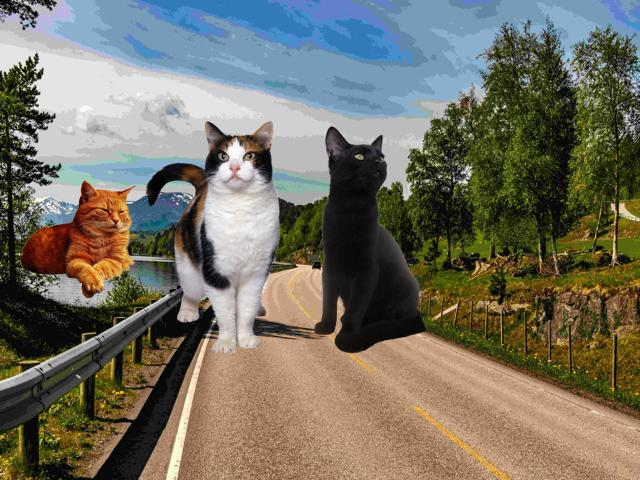cat: (289, 121, 434, 359), (147, 122, 279, 352), (22, 180, 139, 296)
